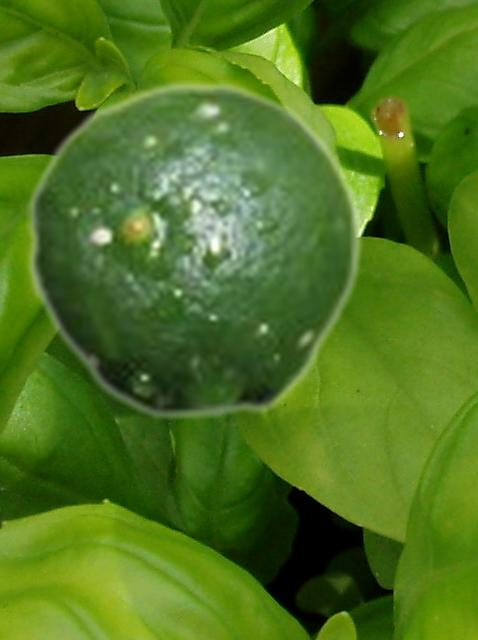calamansi: (26, 80, 363, 421)
